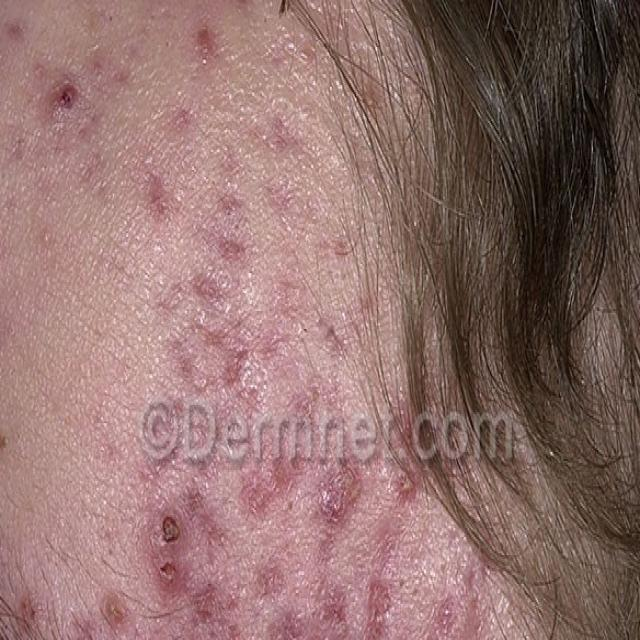Acne: (85, 407, 491, 640), (109, 95, 339, 429), (0, 190, 46, 486), (142, 503, 201, 589), (45, 55, 101, 119), (0, 5, 23, 85)
